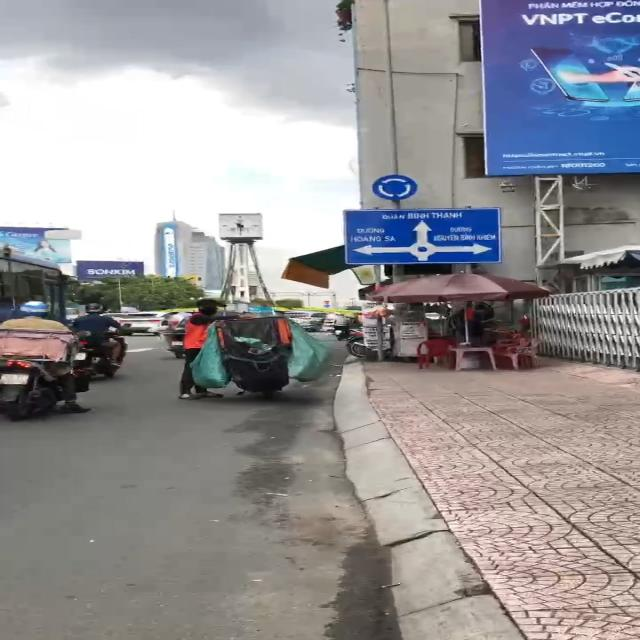Bien bao noi giao nhau chay theo vong xuyen: (369, 171, 418, 200)
